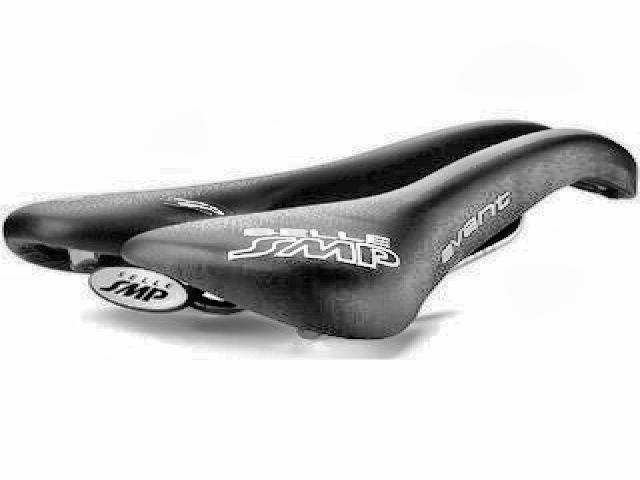saddle: (1, 117, 640, 354)
